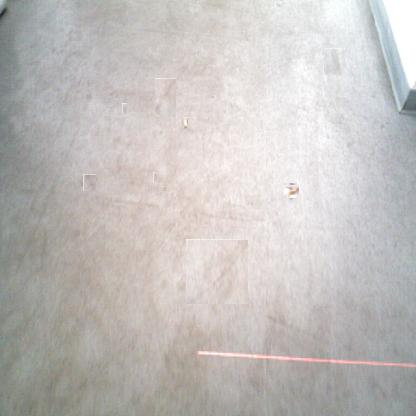dirty: (286, 184, 298, 197), (182, 117, 188, 128)
mark: (186, 239, 248, 304), (266, 314, 352, 350), (154, 78, 176, 117), (324, 48, 342, 75), (82, 175, 97, 190), (108, 90, 118, 98), (84, 91, 92, 101), (276, 1, 284, 10), (162, 185, 170, 192), (84, 80, 92, 87), (122, 103, 127, 114), (153, 172, 158, 182), (325, 132, 330, 140), (209, 93, 215, 99), (159, 129, 163, 137)
